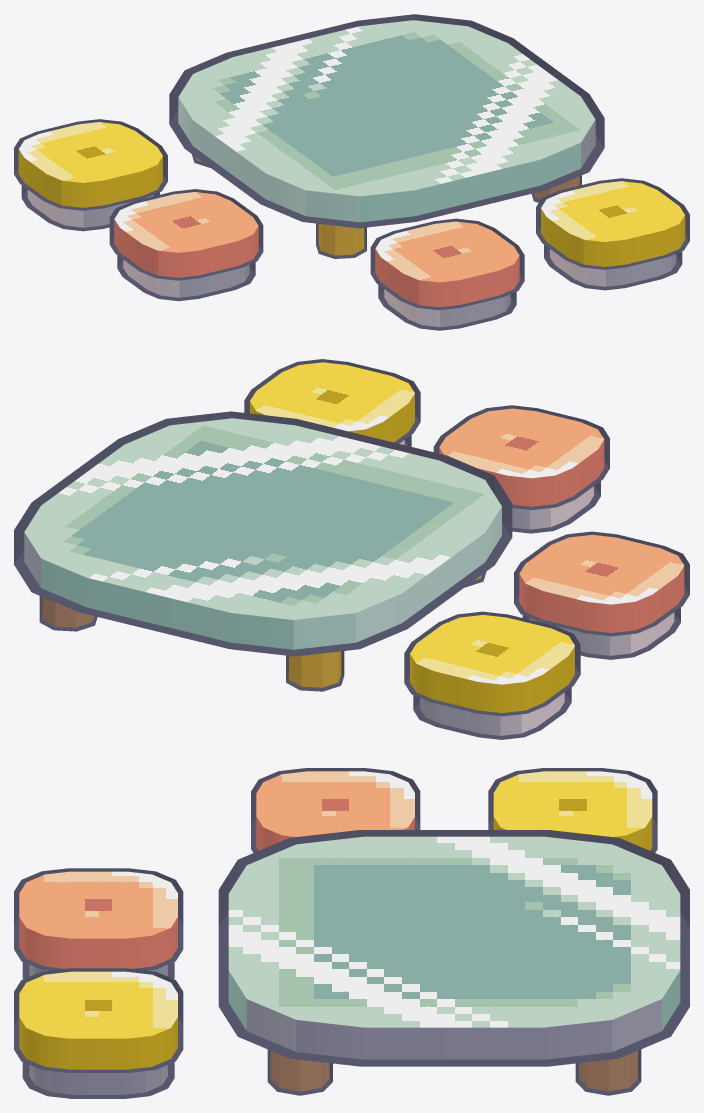
Rendered from PokemonCenter.glb.
The picture shows the model from 3 angles, top to bottom: view 1: azimuth 30°, elevation 25°; view 2: azimuth 150°, elevation 25°; view 3: azimuth 270°, elevation 25°; orthographic projection. The views are drawn at different scales.
Visible parts, largest first — view 1: Table_RSE_mat_0.001, Chair_04_RSE_mat_0.001, Chair_05_RSE_mat_0.001, Chair_06_RSE_mat_0.001, Chair_03_RSE_mat_0.001; view 2: Table_RSE_mat_0.001, Chair_03_RSE_mat_0.001, Chair_04_RSE_mat_0.001, Chair_05_RSE_mat_0.001, Chair_06_RSE_mat_0.001; view 3: Table_RSE_mat_0.001, Chair_06_RSE_mat_0.001, Chair_05_RSE_mat_0.001, Chair_03_RSE_mat_0.001, Chair_04_RSE_mat_0.001.
Boxes of the visible parts, bbox=[...] form: Table_RSE_mat_0.001: bbox=[169, 14, 604, 258]; Chair_04_RSE_mat_0.001: bbox=[109, 189, 263, 301]; Chair_05_RSE_mat_0.001: bbox=[370, 218, 524, 330]; Chair_06_RSE_mat_0.001: bbox=[536, 178, 689, 290]; Chair_03_RSE_mat_0.001: bbox=[14, 119, 167, 231]; Table_RSE_mat_0.001: bbox=[14, 411, 512, 691]; Chair_03_RSE_mat_0.001: bbox=[404, 611, 580, 739]; Chair_04_RSE_mat_0.001: bbox=[514, 531, 689, 659]; Chair_05_RSE_mat_0.001: bbox=[433, 405, 609, 533]; Chair_06_RSE_mat_0.001: bbox=[244, 359, 420, 446]; Table_RSE_mat_0.001: bbox=[218, 830, 689, 1095]; Chair_06_RSE_mat_0.001: bbox=[14, 968, 183, 1098]; Chair_05_RSE_mat_0.001: bbox=[14, 868, 183, 978]; Chair_03_RSE_mat_0.001: bbox=[488, 768, 657, 852]; Chair_04_RSE_mat_0.001: bbox=[251, 768, 420, 852].
Size of the model in its own units: 5.67 by 0.8092 by 5.67.
1 material, 1 textured.
